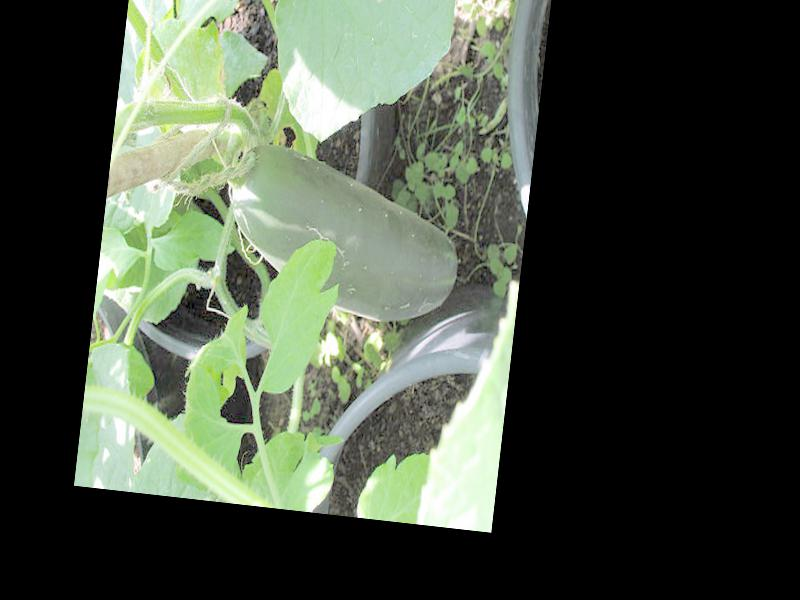Cucumber: (218, 140, 468, 327)
